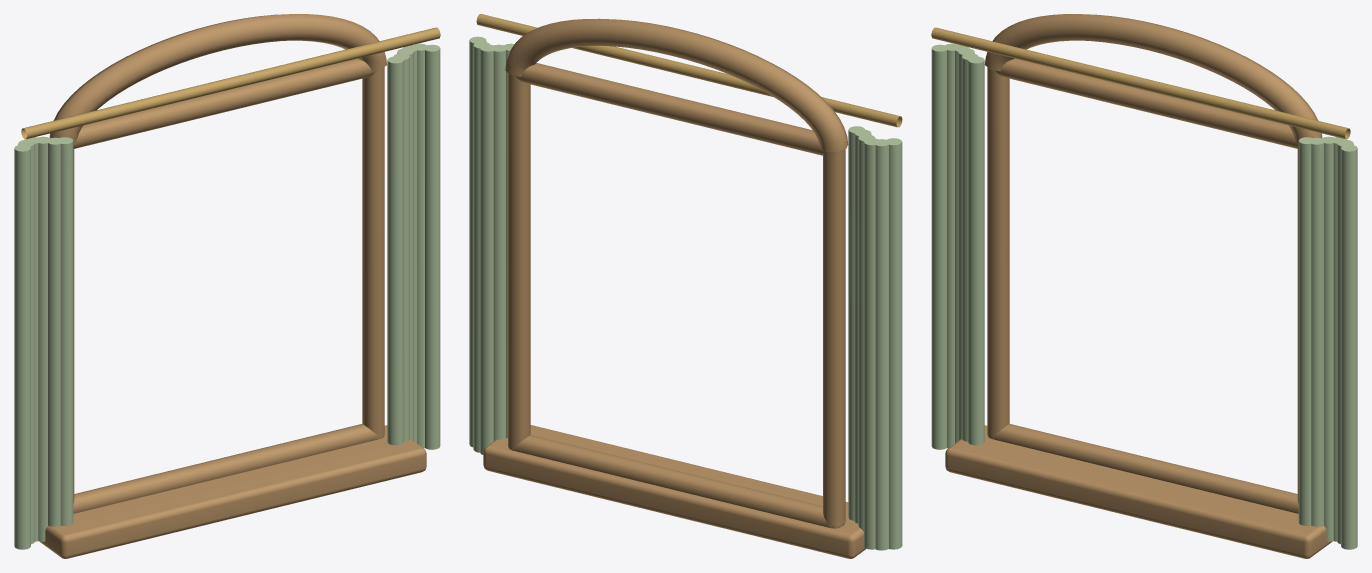
Rendered from botanic-window.glb.
3 views of the same model, side by side, from view 1: azimuth 30°, elevation 25°; view 2: azimuth 150°, elevation 25°; view 3: azimuth 330°, elevation 25° (orthographic).
Visible parts, largest first — view 1: Side moulding.010; view 2: Side moulding.010; view 3: Side moulding.010.
Part boxes in pixels (left/top/right/bottom): Side moulding.010: left=14, top=14, right=440, bottom=558; Side moulding.010: left=469, top=14, right=902, bottom=558; Side moulding.010: left=931, top=14, right=1357, bottom=558.
Size of the model in its own units: 2.05 by 2.18 by 0.31.
